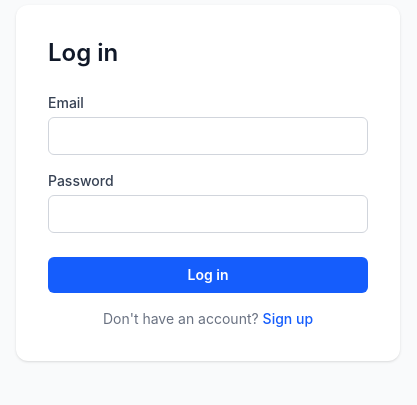
it: LoginPage › shows the server's error message when login fails
This screenshot has width=417, height=405.
Type "anjali@example.com" into the field labelled "Email".
click(208, 136); type("anjali@example.com")  # box top-left (48, 117), bottom-right (368, 155)
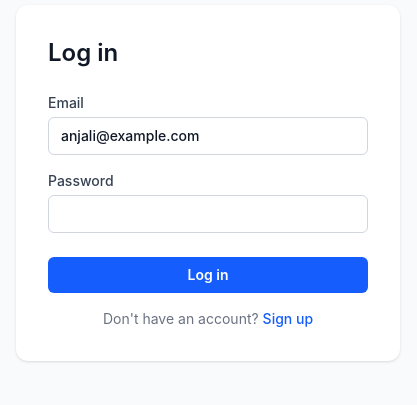
Type "correct-horse" into the password field labelled "Password".
click(208, 214); type("correct-horse")  # box top-left (48, 195), bottom-right (368, 233)
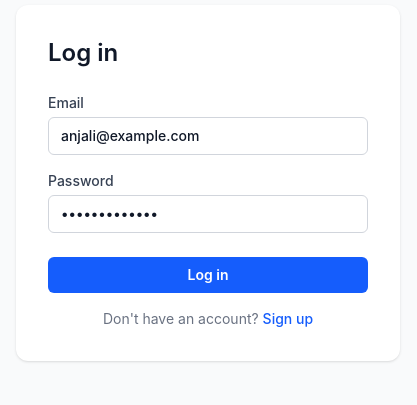
Click the button "Log in".
click(208, 275)  # box top-left (48, 257), bottom-right (368, 293)
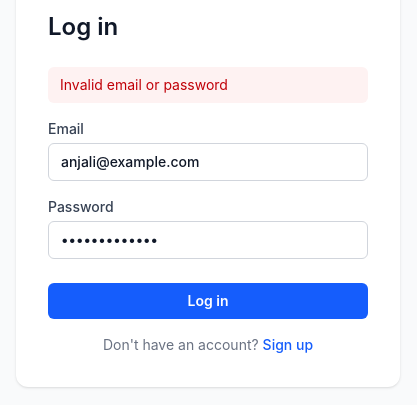
Expected: the message reads "Invalid email or password", top-left (60, 76), bottom-right (228, 93)
